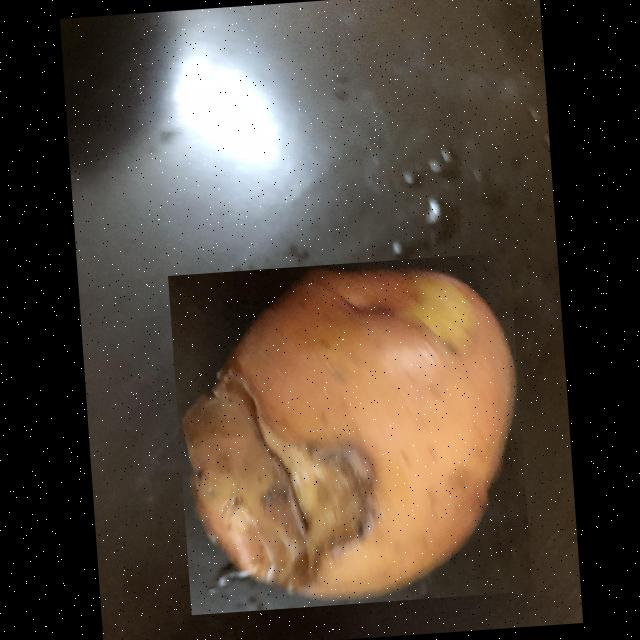Damaged potato: (166, 251, 532, 614)
